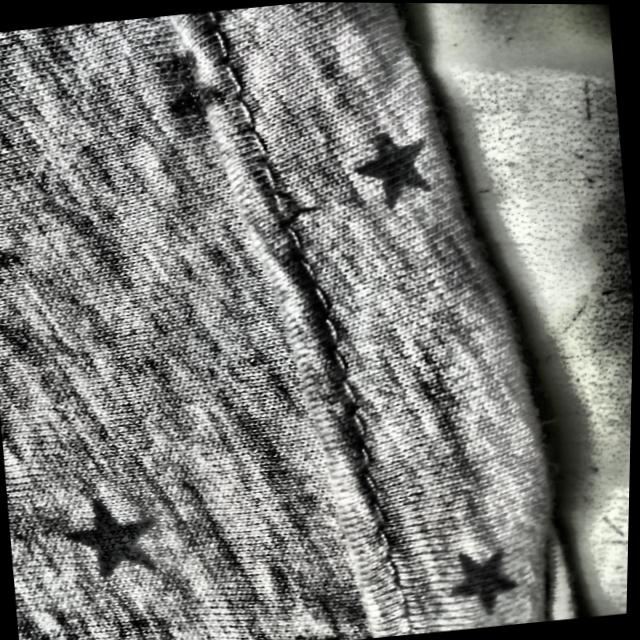Stitch: (243, 167, 356, 272)
